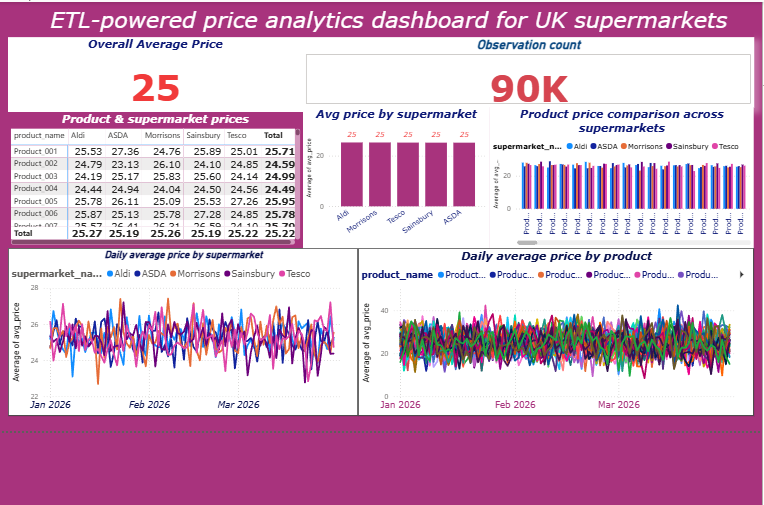

The dashboard page shown, as its layout file describes it:
{"tool":"powerbi","page":{"name":"Dashboard","canvas":[1280,720],"ordinal":2},"visuals":[{"type":"cardVisual","title":"Observation count","fields":{"Data":["CountNonNull(agg_daily_prices.obs_count)"]},"box":[624.9,58.8,641.7,126],"z":0},{"type":"cardVisual","title":"Overall Average Price","fields":{"Data":["Avg(agg_daily_prices.avg_price)"]},"box":[13.4,58.8,611.4,126],"z":1000},{"type":"lineChart","title":"Daily average price by supermarket","fields":{"Category":["agg_daily_prices.date_id"],"Y":["Avg(agg_daily_prices.avg_price)"],"Series":["agg_daily_prices.supermarket_name"]},"box":[13.4,413.2,587.9,282.2],"z":2000},{"type":"lineChart","title":"Daily average price by product","fields":{"Category":["agg_daily_prices.date_id"],"Y":["Avg(agg_daily_prices.avg_price)"],"Series":["agg_daily_prices.product_name"]},"box":[601.4,413.2,665.2,282.2],"z":3000},{"type":"clusteredColumnChart","title":"Product price comparison across supermarkets","fields":{"Category":["agg_daily_prices.product_name"],"Y":["Avg(agg_daily_prices.avg_price)"],"Series":["agg_daily_prices.supermarket_name"]},"box":[823.1,184.8,443.5,228.5],"z":4000},{"type":"pivotTable","title":"Product & supermarket prices","fields":{"Rows":["agg_daily_prices.product_name"],"Columns":["agg_daily_prices.supermarket_name"],"Values":["Avg(agg_daily_prices.avg_price)"]},"box":[13.4,184.8,495.5,228.5],"z":5000},{"type":"clusteredColumnChart","title":"Avg price by supermarket","fields":{"Category":["agg_daily_prices.supermarket_name"],"Y":["Avg(agg_daily_prices.avg_price)"]},"box":[509,176.4,314.1,236.9],"z":6000},{"type":"textbox","box":[13.4,0,1253.1,58.8],"z":7000}]}

Visuals, with their boxes on the page's 1280x720 design canvas (x1, y1, x2, y2). These are canvas units, not pixel positions in the 764x505 screenshot, which may show the page scaled, cropped or inside an application window:
"Observation count" cardVisual: (x1=625, y1=59, x2=1267, y2=185)
"Overall Average Price" cardVisual: (x1=13, y1=59, x2=625, y2=185)
"Daily average price by supermarket" lineChart: (x1=13, y1=413, x2=601, y2=695)
"Daily average price by product" lineChart: (x1=601, y1=413, x2=1267, y2=695)
"Product price comparison across supermarkets" clusteredColumnChart: (x1=823, y1=185, x2=1267, y2=413)
"Product & supermarket prices" pivotTable: (x1=13, y1=185, x2=509, y2=413)
"Avg price by supermarket" clusteredColumnChart: (x1=509, y1=176, x2=823, y2=413)
textbox: (x1=13, y1=0, x2=1266, y2=59)
